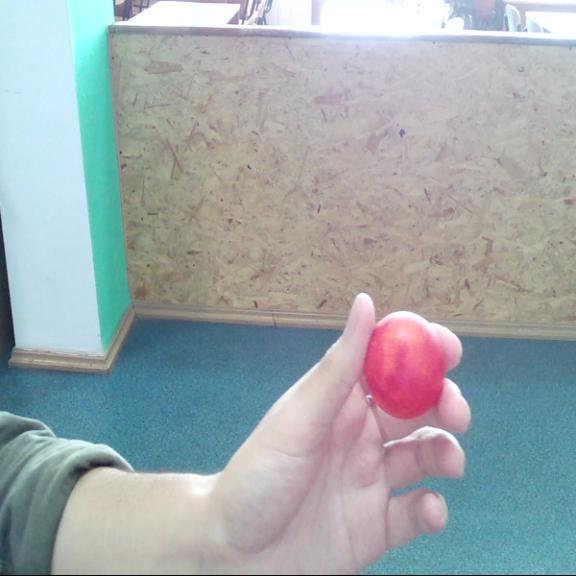ball: (362, 312, 444, 416)
